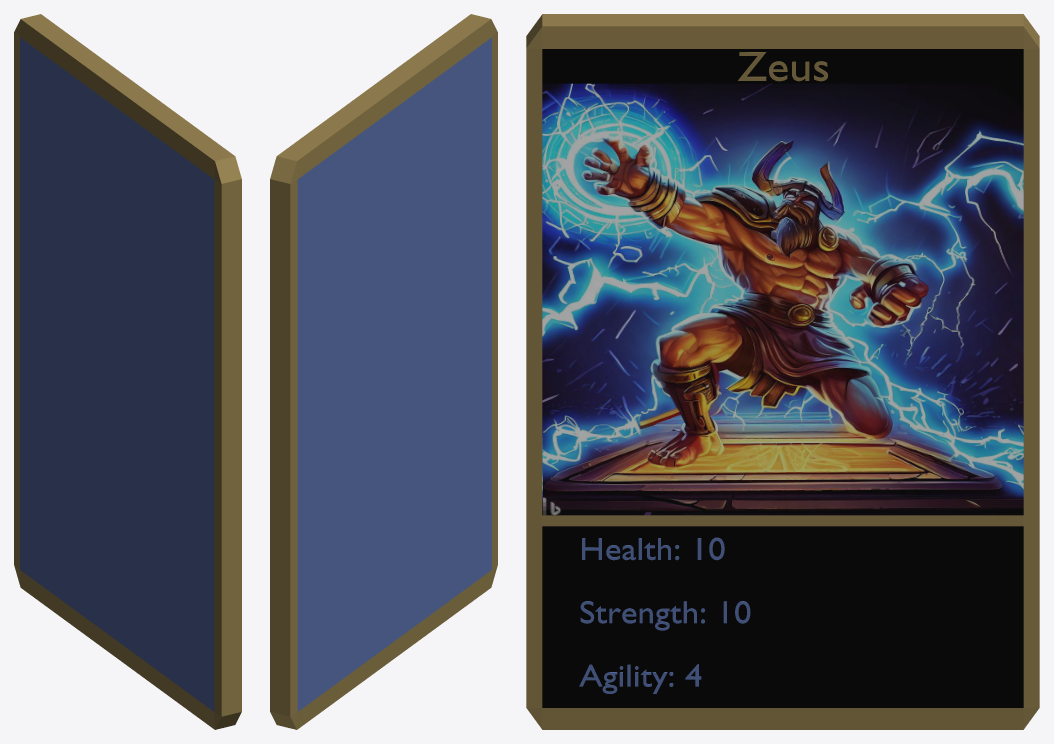
File: Zeus (1).fbx
3 views of the same model, side by side, from view 1: azimuth 30°, elevation 25°; view 2: azimuth 150°, elevation 25°; view 3: azimuth 270°, elevation 25° (orthographic). The views are drawn at different scales.
Parts seen in each view (by area): view 1: Zeus; view 2: Zeus; view 3: Zeus.
Boxes of the visible parts, left/top/right/bottom form: Zeus: left=14, top=14, right=241, bottom=729; Zeus: left=270, top=14, right=497, bottom=729; Zeus: left=526, top=14, right=1039, bottom=729.
Size of the model in its own units: 19.94 by 482 by 319.
Materials: 4 (1 with a texture image).
